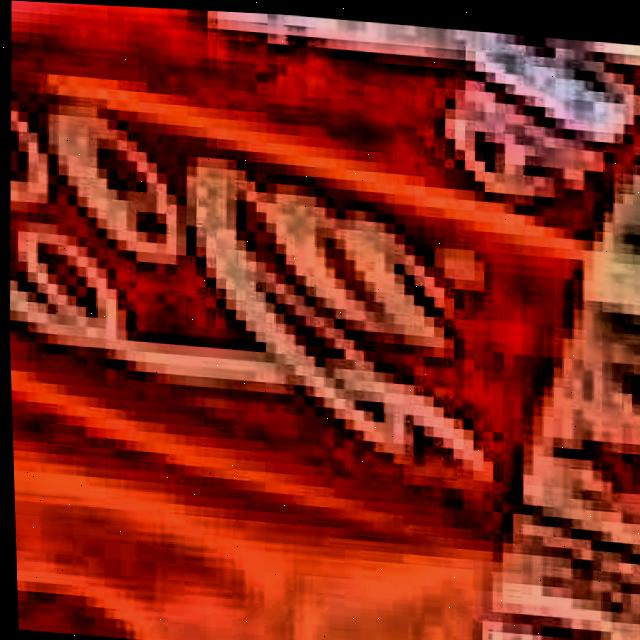metal: (7, 0, 640, 640)
